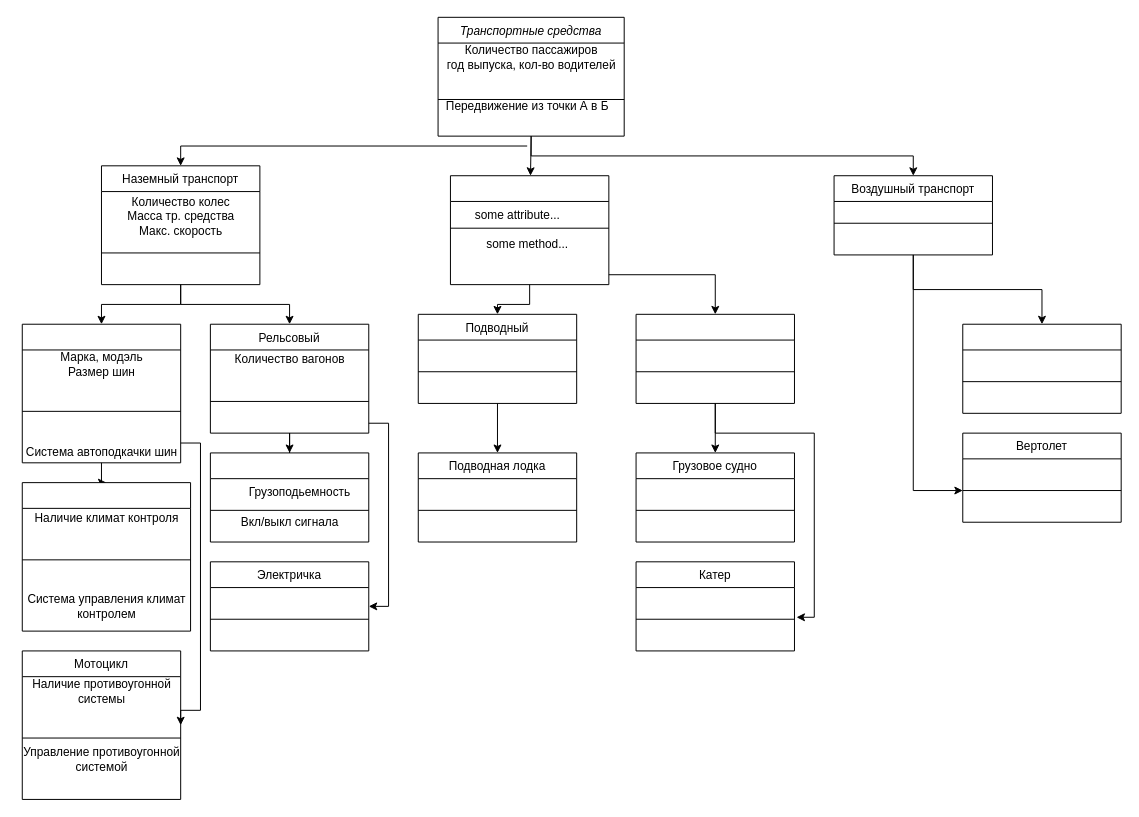
The diagram is 1139 pixels wide and 817 high, and some of its shapes have lost their labels. The box of each missing label's shape, as (x1, y1, x2, y2) in pixels:
Автодорожный: (21, 323, 181, 463)
Автомообиль: (21, 482, 191, 631)
Водный транспорт: (449, 175, 609, 285)
Надводный: (635, 313, 794, 403)
Поезд: (209, 452, 369, 542)
Самолет: (962, 323, 1121, 413)
